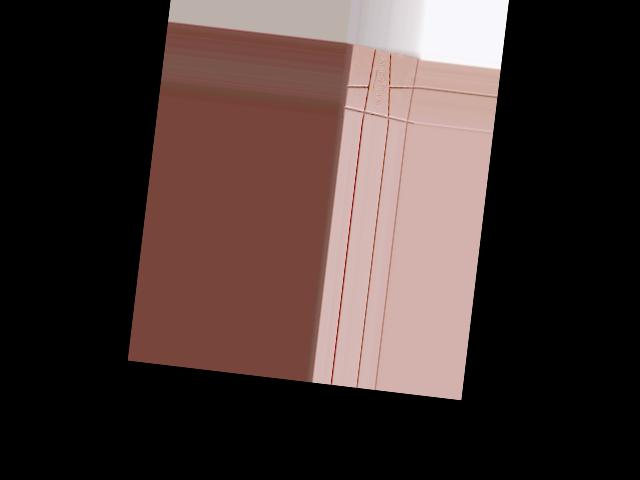chocolate: (339, 41, 422, 128)
